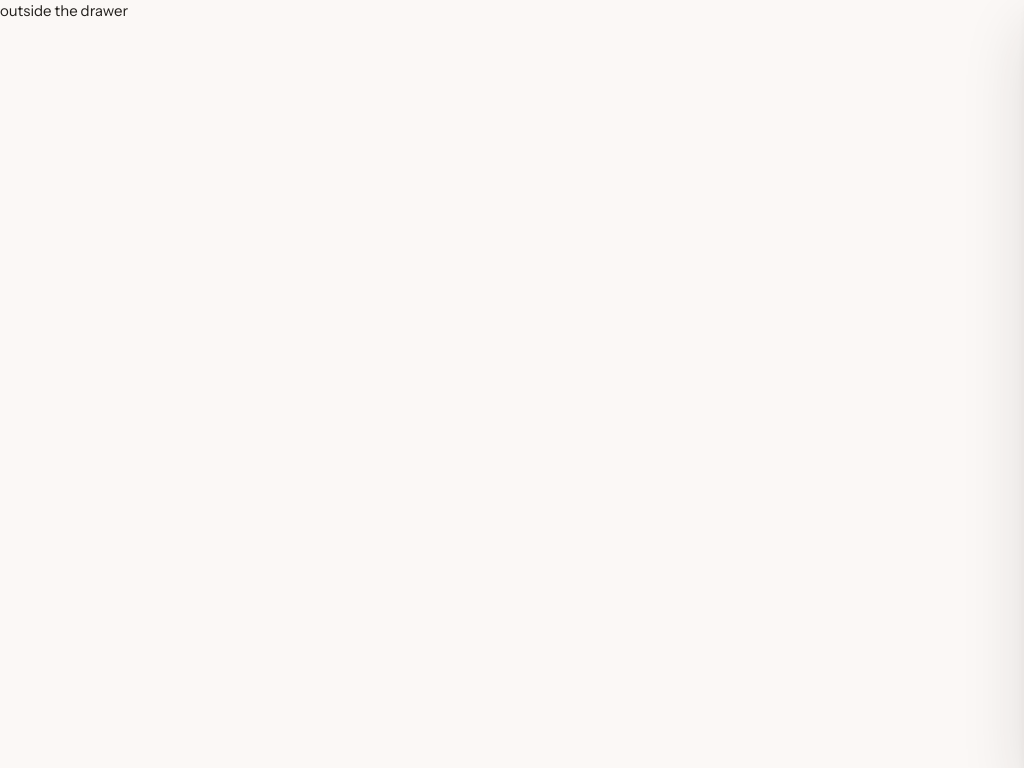
DevDrawer › filters the journal, and says so when the filter matches nothing
Type keys "{Meta>}\\{/Meta}"
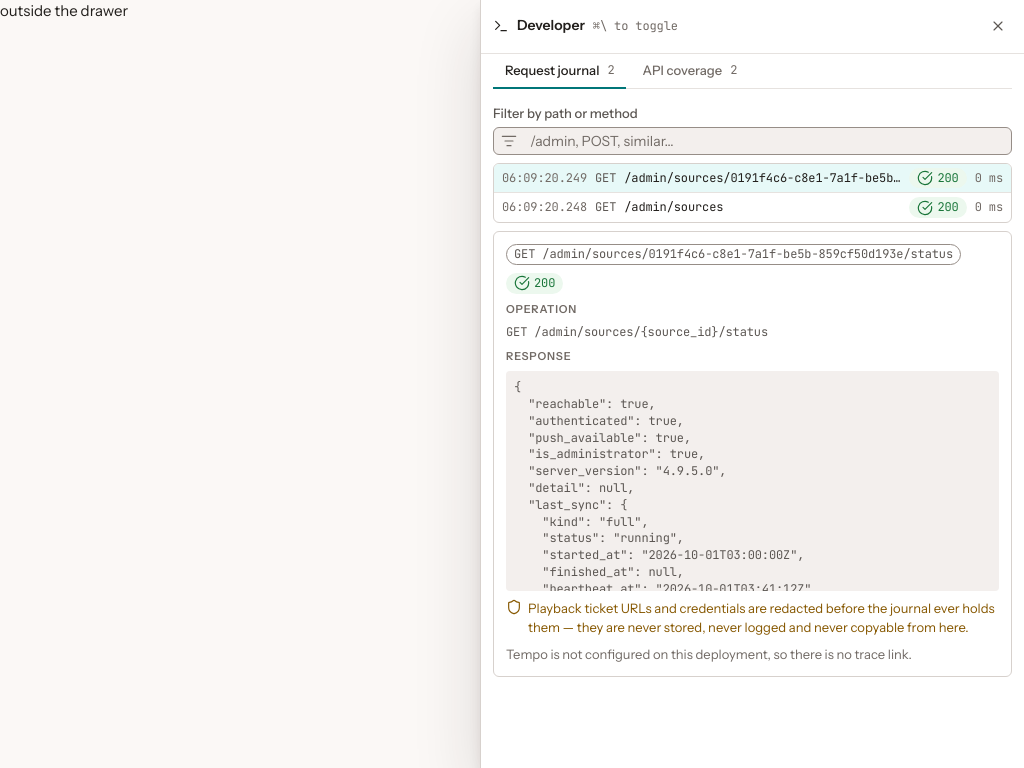
Type "status" into the field labelled "Filter by path or method". click: (752, 141)
box: x1=493 y1=127 x2=1012 y2=155
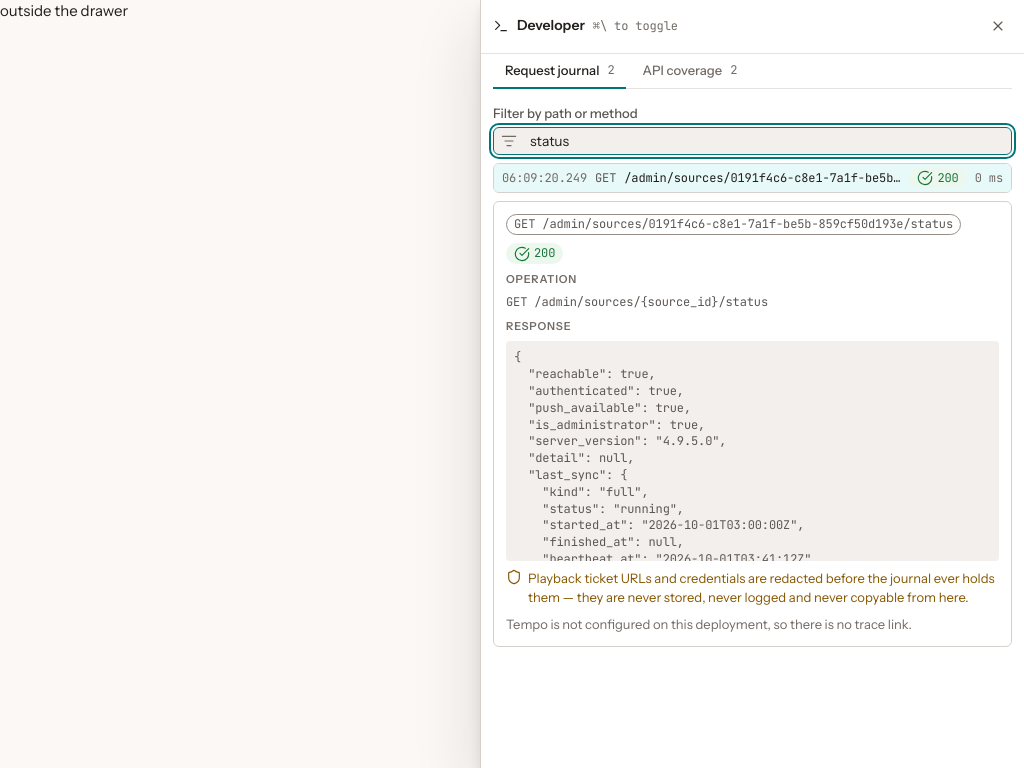
Replace the text in the field labelled "Filter by path or method" with "zzzz". click: (752, 141)
box: x1=493 y1=127 x2=1012 y2=155
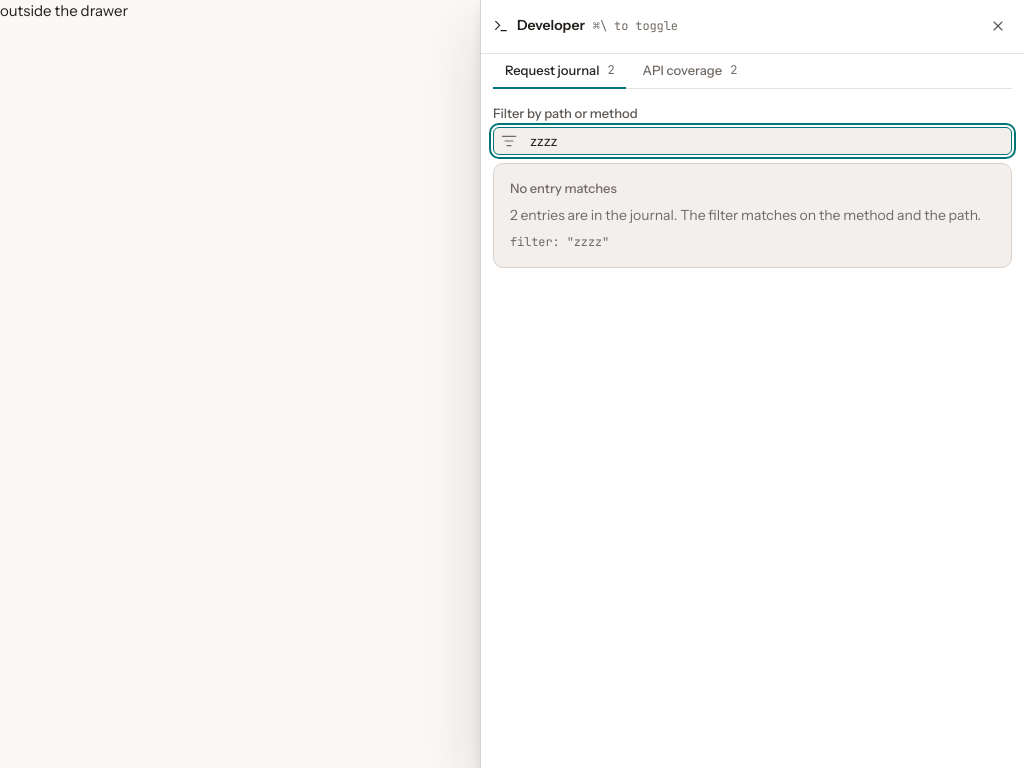
Expected: the text "No entry matches" is shown, x1=510 y1=180 x2=617 y2=197
Expected: the text "filter: \"zzzz\"" is shown, x1=510 y1=234 x2=609 y2=251
